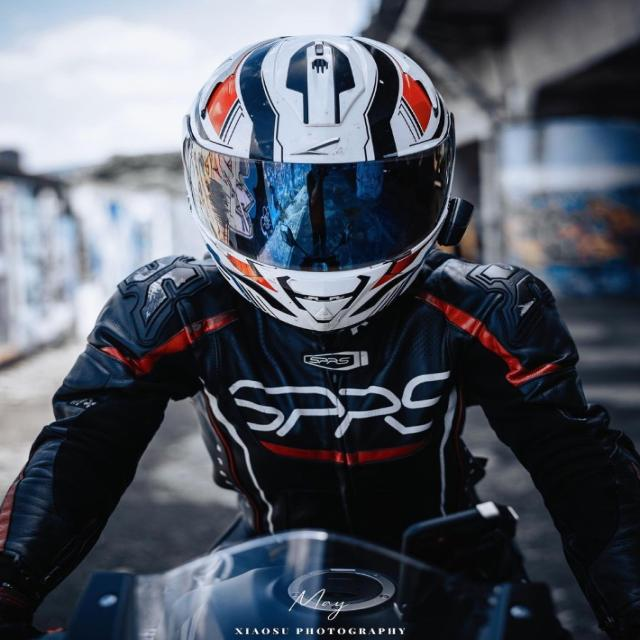helmet: (174, 28, 462, 338)
